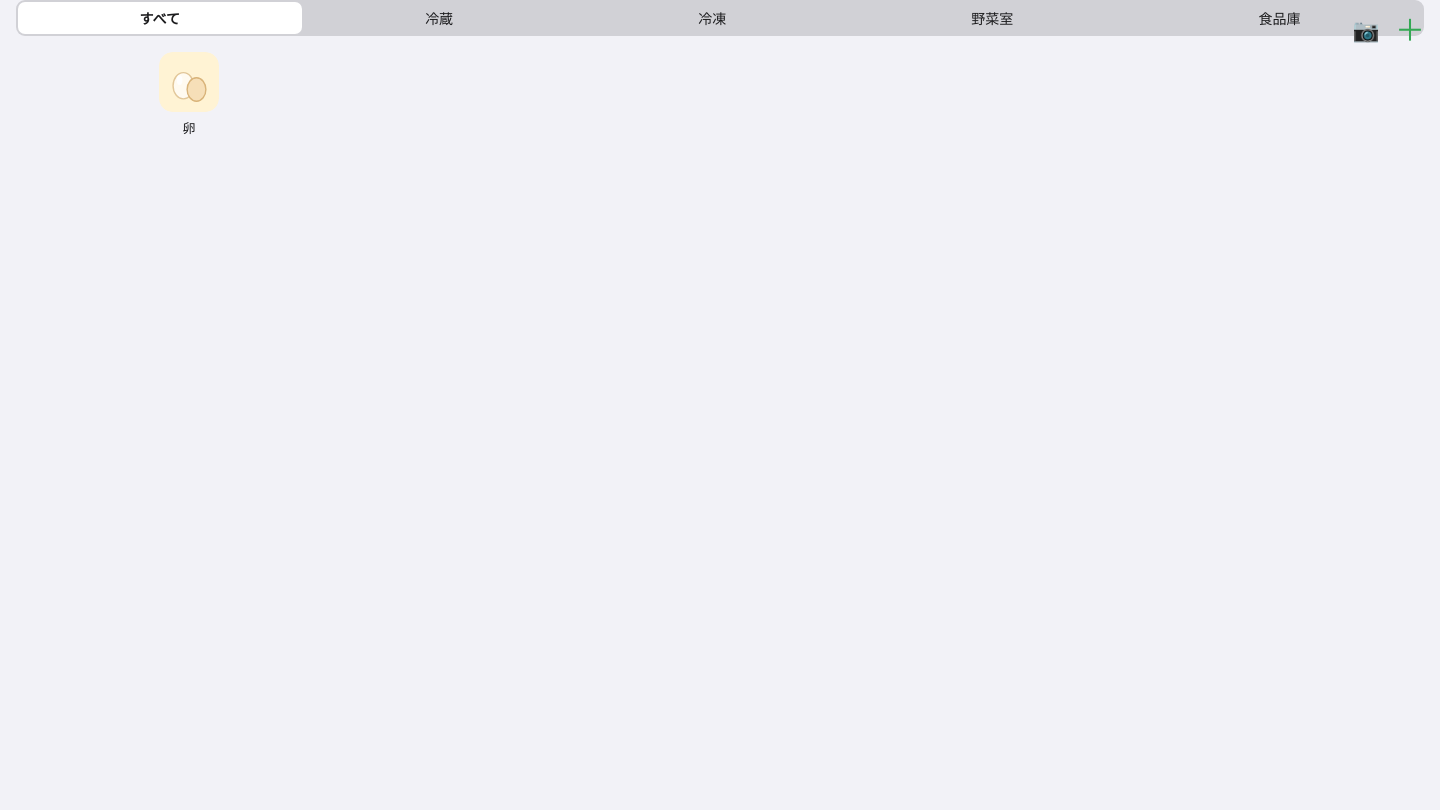
InventoryScreen 読み込み中の操作 › 最初の読み込みが終わる前に追加しても、追加した食材が消えない
Click the button named "食材を追加". click: point(1410, 30)
box: [1388,8,1432,52]
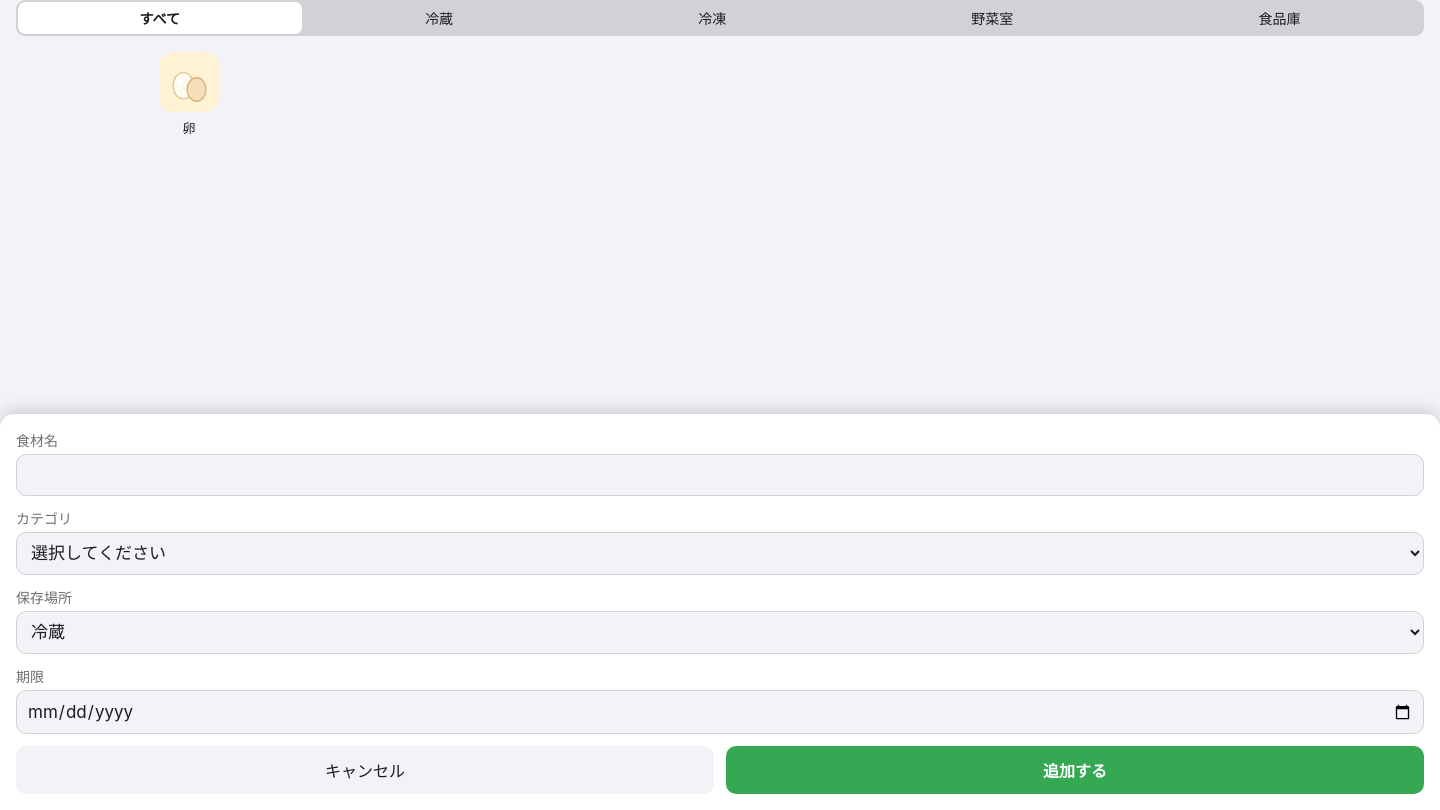
Type "牛乳" into the field labelled "食材名". click: point(720, 475)
box: [16,454,1424,496]
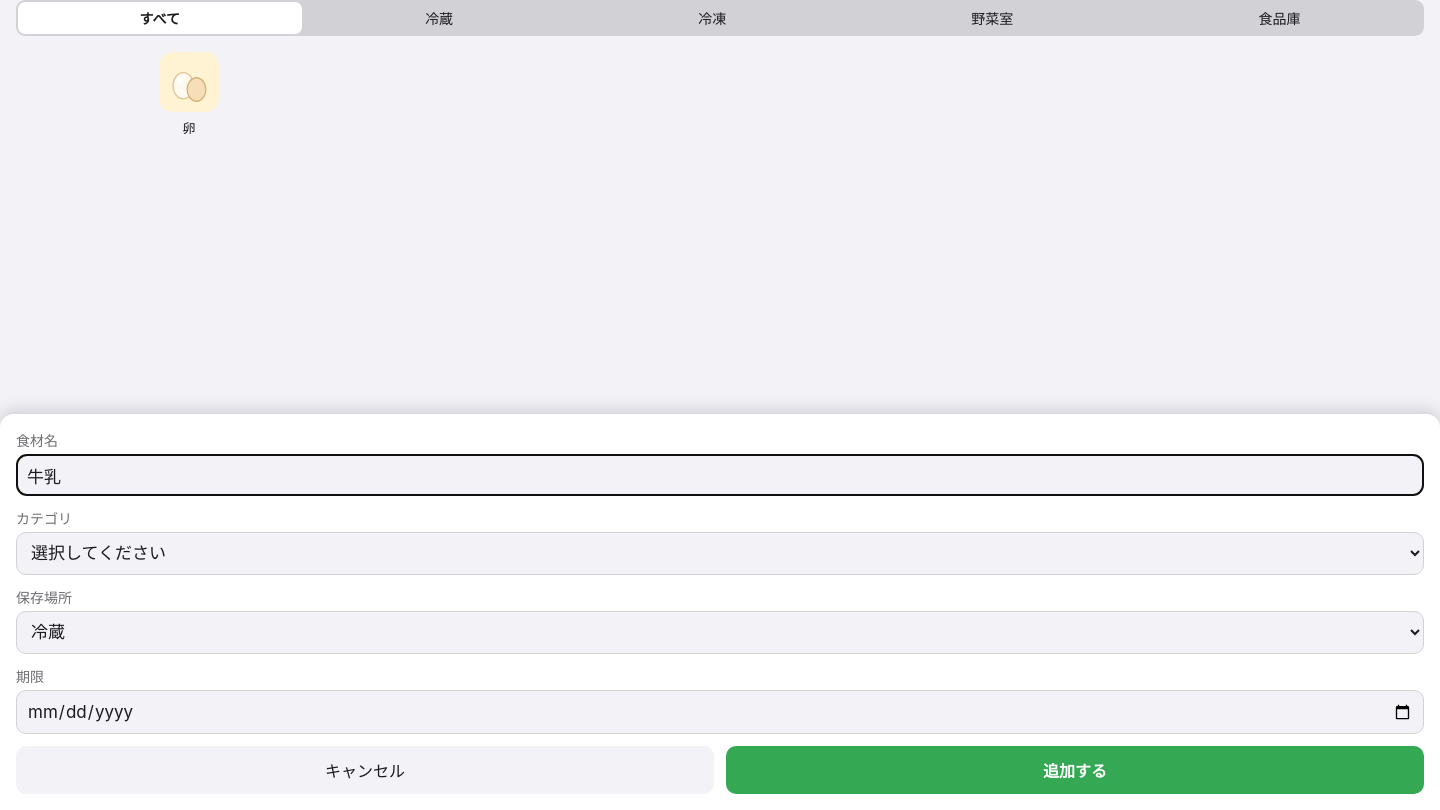
Select "乳製品" in the dropdown labelled "カテゴリ". click: point(720, 554)
box: [16,532,1424,575]
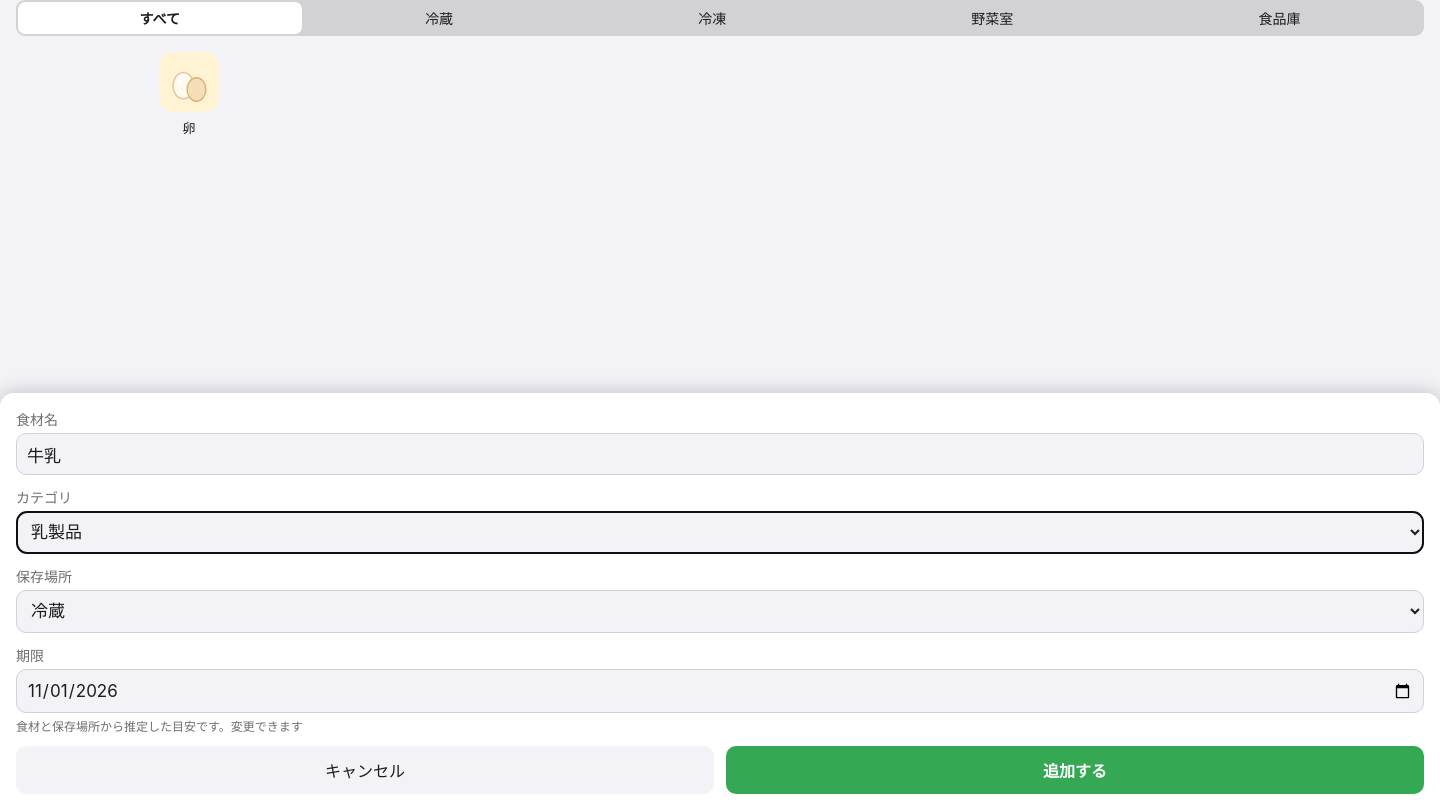
Click the button "追加する". click: point(1075, 770)
box: [726,746,1424,794]
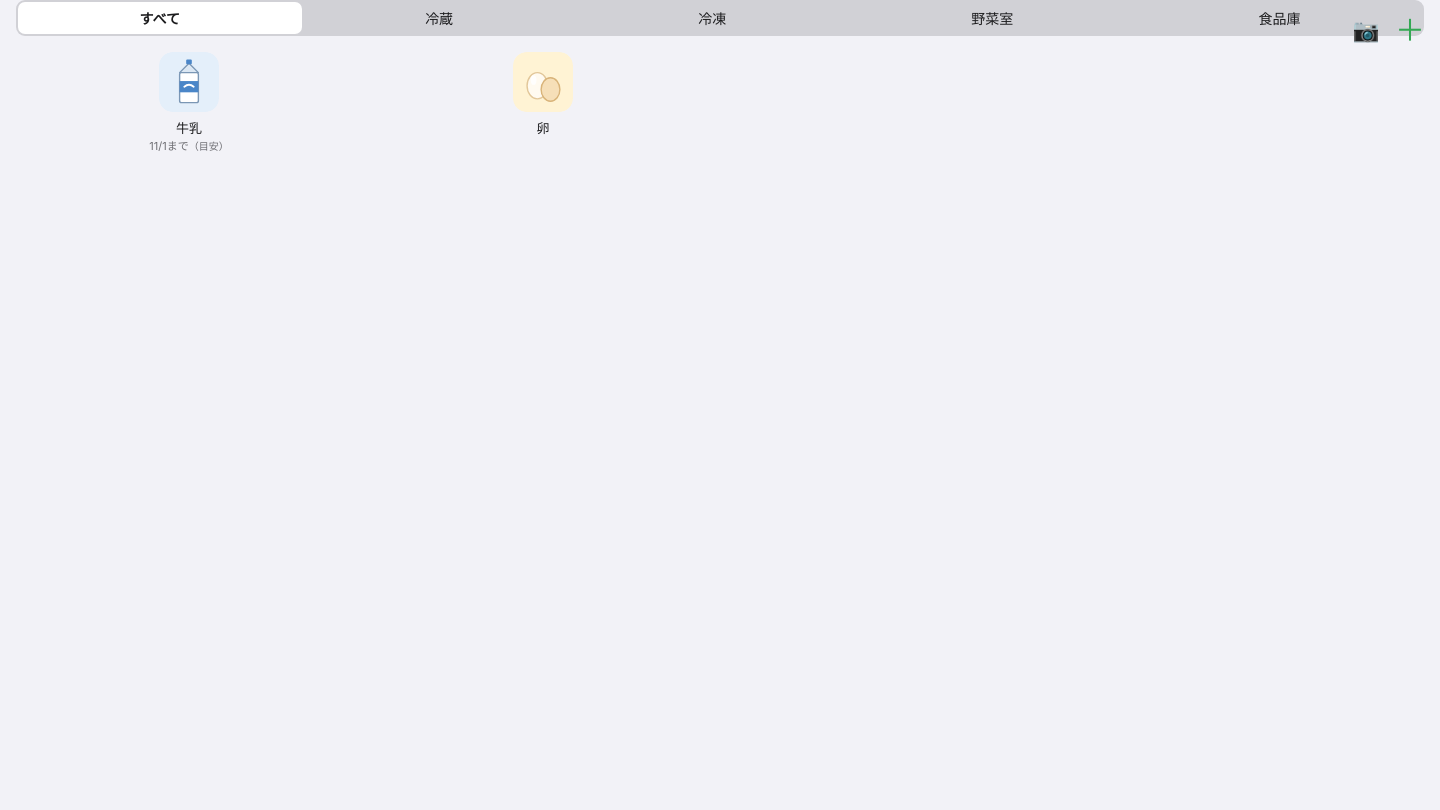
expect the list item "卵" is shown: met, box [370,52,716,137]
expect the list item "牛乳" is shown: met, box [16,52,362,153]
